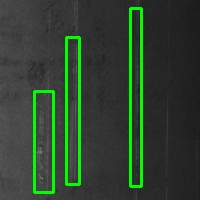scratches: (130, 8, 141, 186), (34, 91, 53, 192), (66, 37, 79, 184)
